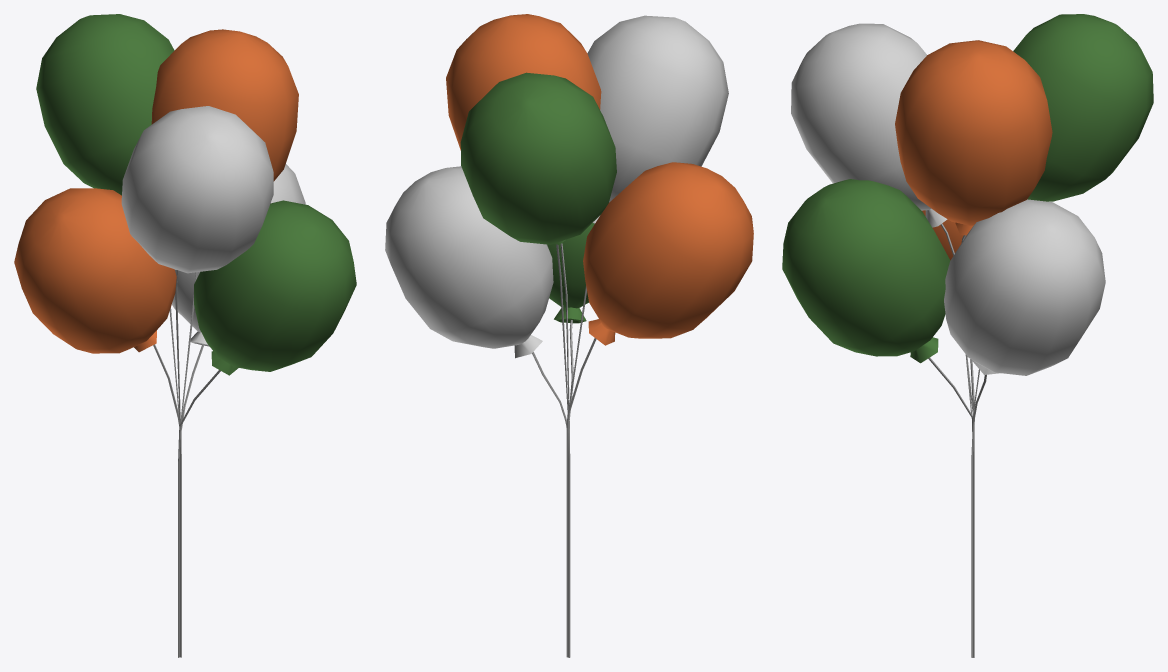
The model's file is BalloonBouqet_01.fbx.
3 renders of one model, left to right at view 1: azimuth 30°, elevation 25°; view 2: azimuth 150°, elevation 25°; view 3: azimuth 270°, elevation 25°, orthographic. The views are drawn at different scales.
Visible parts, largest first — view 1: BalloonBouqet_01; view 2: BalloonBouqet_01; view 3: BalloonBouqet_01.
Part boxes in pixels (x1,y1,x2,y2): BalloonBouqet_01: (14, 14, 356, 657); BalloonBouqet_01: (385, 14, 753, 657); BalloonBouqet_01: (782, 14, 1153, 657).
Size of the model in its own units: 0.5717 by 1.09 by 0.5792.
